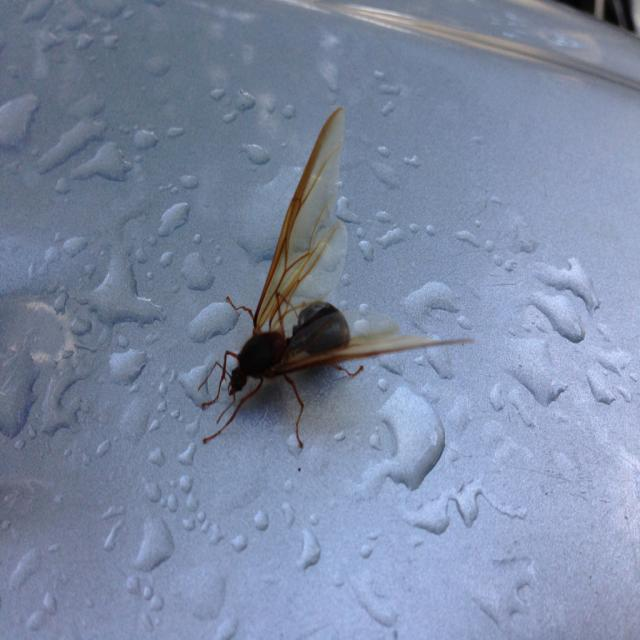Alive-Male-Alate: (196, 106, 476, 450)
